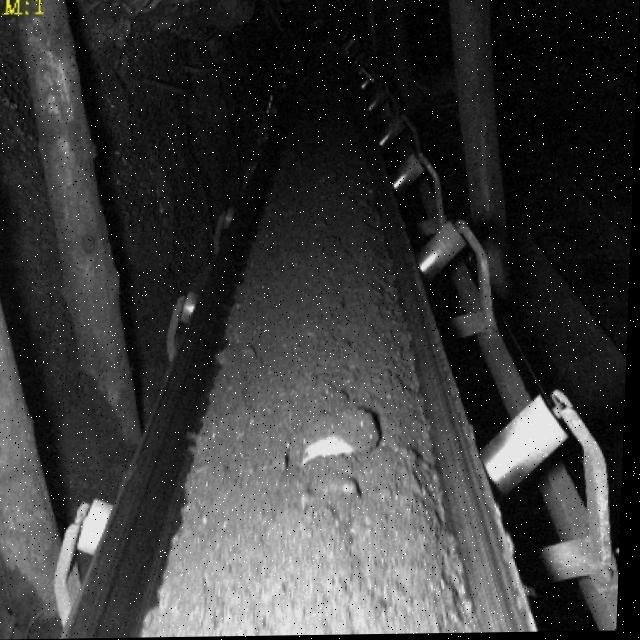large_sized_coal: (305, 410, 381, 461)
